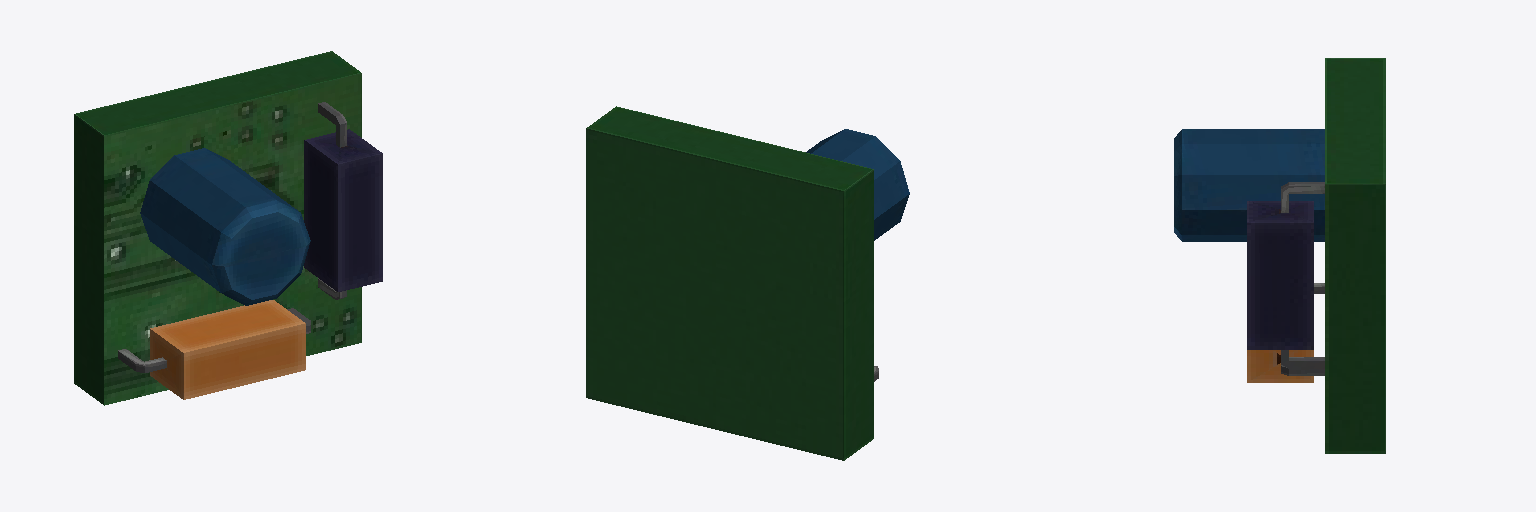
3 views of the same model, side by side, from view 1: azimuth 30°, elevation 25°; view 2: azimuth 150°, elevation 25°; view 3: azimuth 270°, elevation 25° (orthographic).
Parts seen in each view (by area): view 1: Object15, Object11; view 2: Object15, Object11; view 3: Object15, Object11.
Boxes of the visible parts, <box> form: Object15: <box>74,51,382,405</box>; Object11: <box>140,148,310,305</box>; Object15: <box>586,106,878,460</box>; Object11: <box>806,129,909,240</box>; Object15: <box>1247,58,1385,453</box>; Object11: <box>1174,129,1324,241</box>.
Size of the model in its own units: 20.04 by 20.04 by 14.24.
Materials: 1 (1 with a texture image).